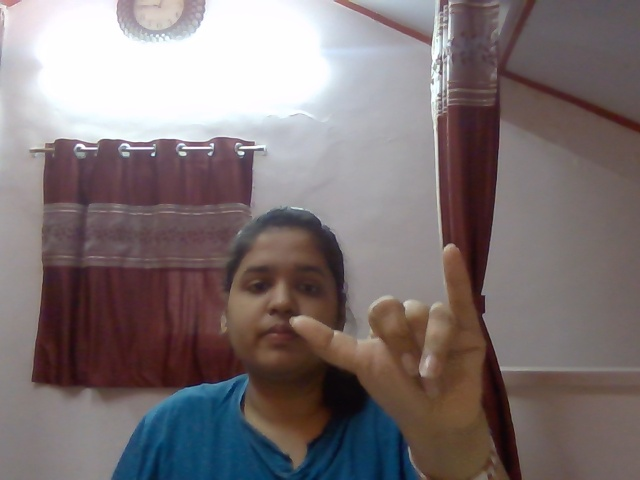y: (272, 235, 565, 427)
